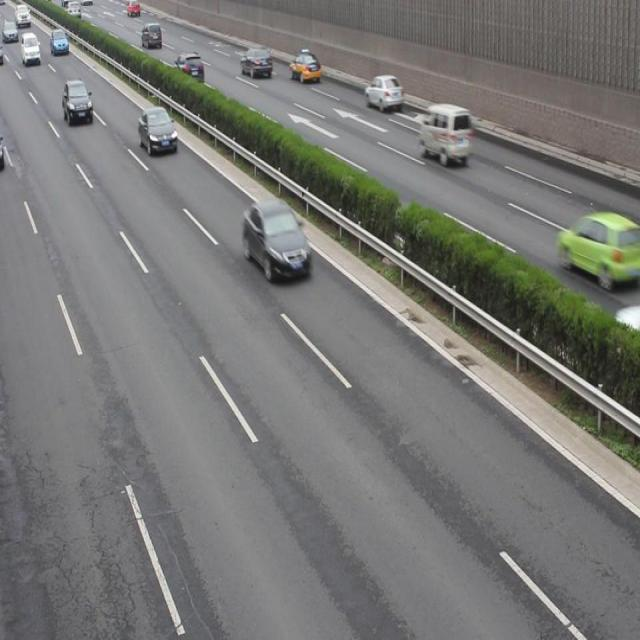car: (556, 209, 640, 285), (242, 201, 312, 281), (138, 108, 178, 154), (62, 79, 94, 127), (364, 74, 402, 112), (289, 50, 321, 85), (174, 52, 204, 84), (241, 46, 271, 77), (21, 34, 40, 66), (142, 23, 161, 50), (50, 30, 69, 56)
truck: (419, 102, 472, 163)
